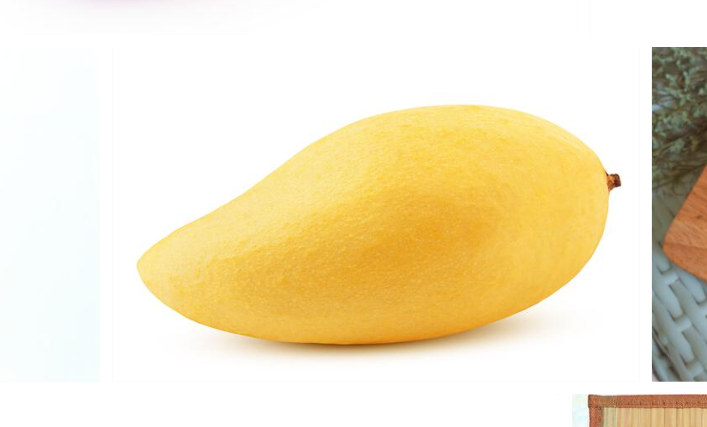mango: (134, 108, 612, 348)
